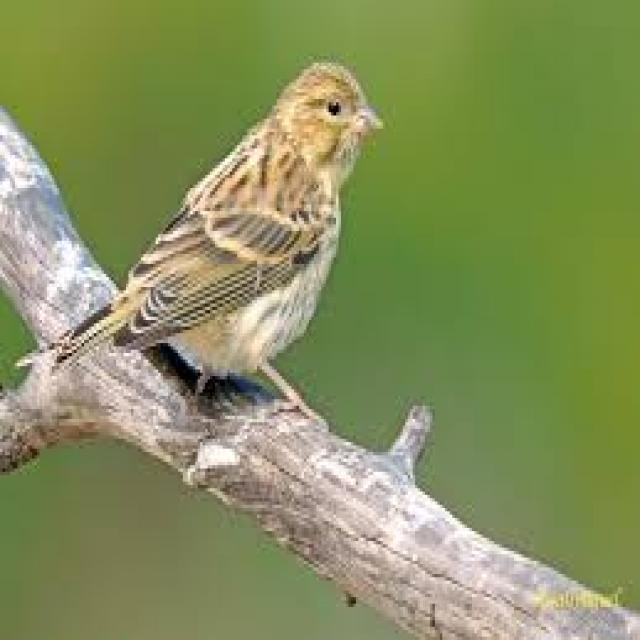bird: (4, 5, 446, 480)
